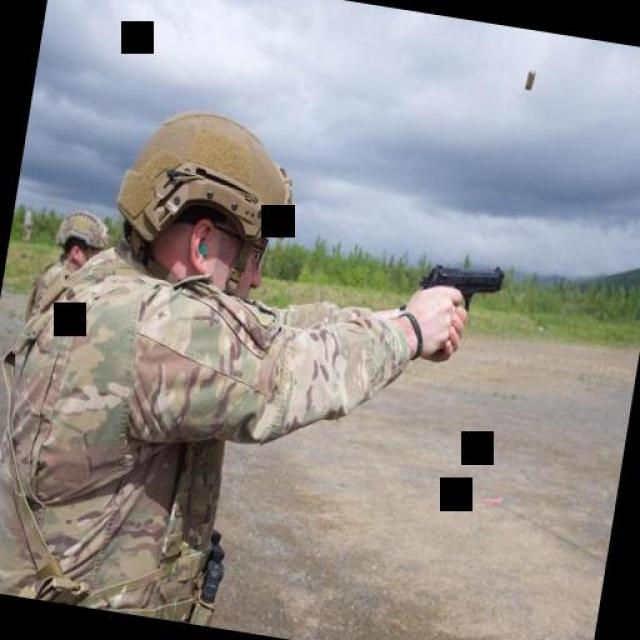gun: (402, 254, 507, 366)
